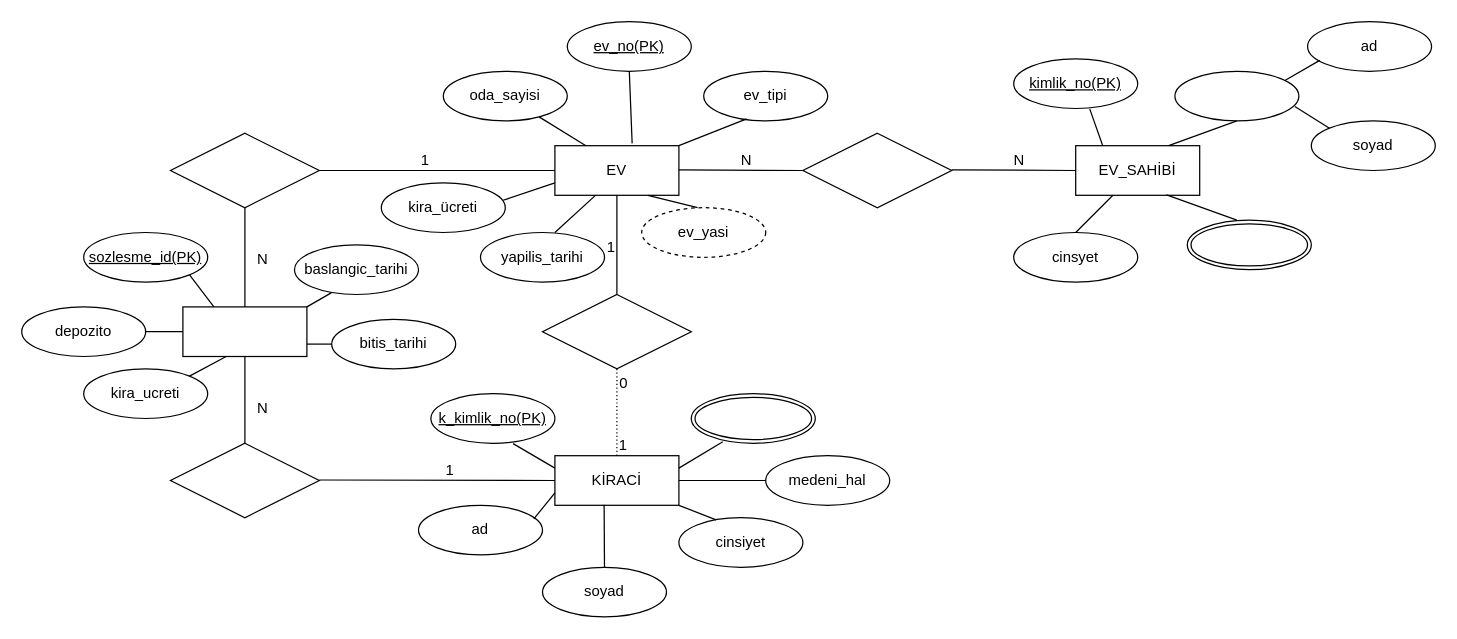
Image size: 1457x639. Some labels were removed from this diagram. The centre of each missing label's shape, as x and y in pixels:
isim: point 1236,95
k_telefon_no: point 752,417
KİRA_SOZLESME: point 244,331
KİRALANİR: point 244,170
Relationship: point 616,331
SAHİPTİR: point 877,170
telefon_no: point 1248,244
YAPİLMİSTİR: point 244,480
